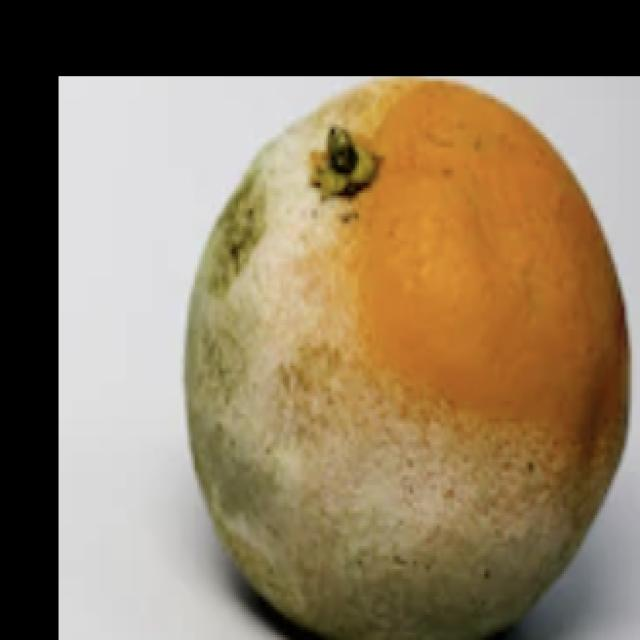sangat_busuk: (176, 79, 632, 640)
